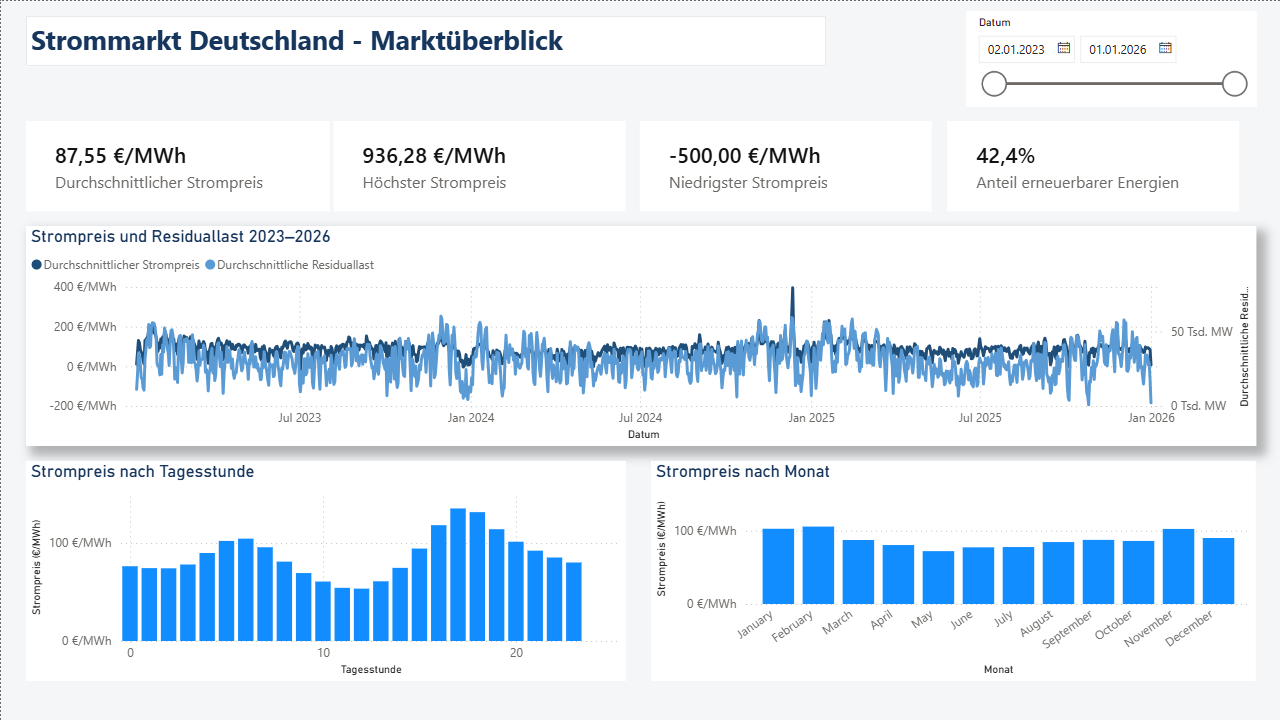

The dashboard page shown, as its layout file describes it:
{"tool":"powerbi","page":{"name":"Marktüberblick","canvas":[1280,720],"ordinal":0},"visuals":[{"type":"lineChart","fields":{"Category":["dim_date.date"],"Y":["_Measures.Average Price"],"Y2":["_Measures.Avg Residual Load"]},"box":[25,225,1230,220],"z":0},{"type":"slicer","title":"Datum","fields":{"Values":["dim_date.date"]},"box":[965,10,290,96],"z":1000},{"type":"cardVisual","title":"Durchschnittlicher Strompreis","fields":{"Data":["_Measures.Average Price"]},"box":[25,120,304,90],"z":2000},{"type":"cardVisual","fields":{"Data":["_Measures.Minimum price"]},"box":[639,120,292,90],"z":3000},{"type":"cardVisual","fields":{"Data":["_Measures.Maximum Price"]},"box":[332,120,292,90],"z":4000},{"type":"textbox","box":[25,15,800,50],"z":5000},{"type":"cardVisual","fields":{"Data":["_Measures.Avg Renewable Share %"]},"box":[946,120,292,90],"z":6000},{"type":"clusteredColumnChart","title":"Strompreis nach Tagesstunde","fields":{"Y":["_Measures.Average Price"],"Category":["energy_data.hour"]},"box":[25,460,600,220],"z":7000},{"type":"clusteredColumnChart","title":"Strompreis nach Monat","fields":{"Y":["_Measures.Average Price"],"Category":["dim_date.month_name"]},"box":[650,460,605,220],"z":8000}]}

Visuals, with their boxes in screenshot pixels (x1, y1, x2, y2), scaled from the page's 1280x720 canvas onto the 1280x720 screenshot:
lineChart - dim_date.date x _Measures.Average Price: (x1=25, y1=225, x2=1255, y2=445)
"Datum" slicer: (x1=965, y1=10, x2=1255, y2=106)
"Durchschnittlicher Strompreis" cardVisual: (x1=25, y1=120, x2=329, y2=210)
cardVisual - _Measures.Minimum price: (x1=639, y1=120, x2=931, y2=210)
cardVisual - _Measures.Maximum Price: (x1=332, y1=120, x2=624, y2=210)
textbox: (x1=25, y1=15, x2=825, y2=65)
cardVisual - _Measures.Avg Renewable Share %: (x1=946, y1=120, x2=1238, y2=210)
"Strompreis nach Tagesstunde" clusteredColumnChart: (x1=25, y1=460, x2=625, y2=680)
"Strompreis nach Monat" clusteredColumnChart: (x1=650, y1=460, x2=1255, y2=680)
